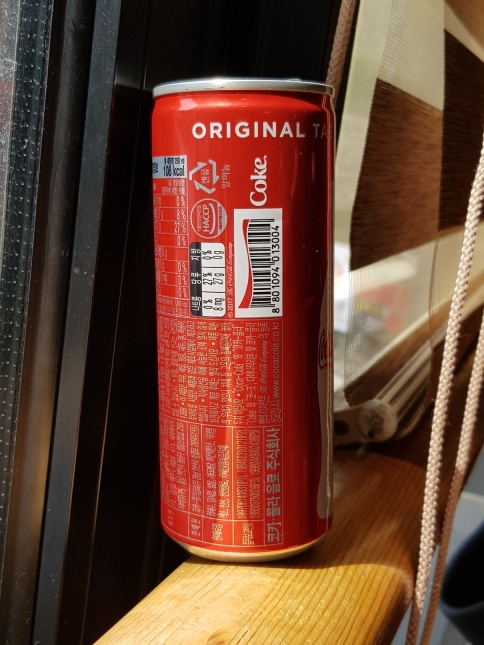Can: (149, 76, 337, 567)
